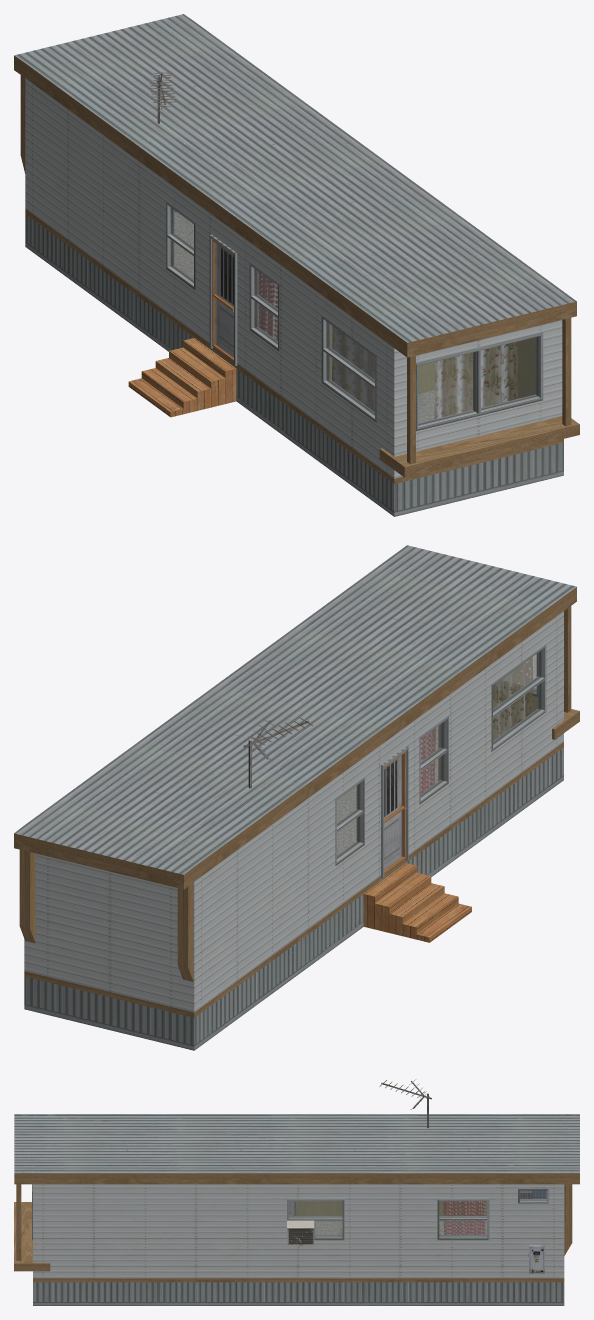
Rendered from trailer_06.glb.
The picture shows the model from 3 angles, top to bottom: view 1: azimuth 30°, elevation 25°; view 2: azimuth 150°, elevation 25°; view 3: azimuth 270°, elevation 25°; orthographic projection. The views are drawn at different scales.
Visible parts, largest first — view 1: Home_03, Mesh_24, ladders_01, Curtain_01.012, Frame_Windows_24, Mesh_23, Door_Mesh.005, Curtain_01.011, Frame_Windows_23, Door.005, Mesh_22, Frame_Windows_22 (+4 smaller); view 2: Home_03, ladders_01, Mesh_23, Door_Mesh.005, Curtain_01.011, Frame_Windows_23, Door.005, Mesh_22, Mesh_21, Frame_Windows_22, Frame_Windows_21, Frame_Door_06 (+2 smaller); view 3: Home_03, Mesh_26, Mesh_25, Curtain.012, Frame_Windows_26, Frame_Windows_25, air-conditioning.005, Fuse_box.007, Antenna_01.002, Frame_Windows_27.
Part boxes in pixels (x1=…): Home_03: x1=14, y1=14, x2=579, y2=516; Mesh_24: x1=418, y1=337, x2=537, y2=425; ladders_01: x1=128, y1=338, x2=236, y2=417; Curtain_01.012: x1=434, y1=342, x2=518, y2=418; Frame_Windows_24: x1=416, y1=332, x2=543, y2=431; Mesh_23: x1=326, y1=322, x2=374, y2=415; Door_Mesh.005: x1=212, y1=240, x2=233, y2=361; Curtain_01.011: x1=332, y1=326, x2=374, y2=411; Frame_Windows_23: x1=321, y1=315, x2=376, y2=422; Door.005: x1=216, y1=244, x2=233, y2=357; Mesh_22: x1=254, y1=269, x2=277, y2=344; Frame_Windows_22: x1=249, y1=262, x2=279, y2=351; Home_03: x1=14, y1=545, x2=579, y2=1050; ladders_01: x1=363, y1=863, x2=471, y2=942; Mesh_23: x1=493, y1=651, x2=541, y2=744; Door_Mesh.005: x1=384, y1=751, x2=406, y2=873; Curtain_01.011: x1=493, y1=657, x2=533, y2=740; Frame_Windows_23: x1=491, y1=644, x2=546, y2=751; Door.005: x1=384, y1=755, x2=401, y2=869; Mesh_22: x1=421, y1=722, x2=444, y2=797; Mesh_21: x1=337, y1=784, x2=359, y2=858; Frame_Windows_22: x1=419, y1=715, x2=448, y2=804; Frame_Windows_21: x1=335, y1=777, x2=364, y2=865; Frame_Door_06: x1=381, y1=746, x2=408, y2=878; Home_03: x1=14, y1=1114, x2=579, y2=1305; Mesh_26: x1=439, y1=1201, x2=486, y2=1236; Mesh_25: x1=289, y1=1201, x2=342, y2=1236; Curtain.012: x1=443, y1=1201, x2=485, y2=1234; Frame_Windows_26: x1=437, y1=1198, x2=489, y2=1240; Frame_Windows_25: x1=287, y1=1198, x2=344, y2=1240; air-conditioning.005: x1=287, y1=1220, x2=314, y2=1245; Fuse_box.007: x1=528, y1=1244, x2=544, y2=1273; Antenna_01.002: x1=379, y1=1079, x2=431, y2=1127; Frame_Windows_27: x1=518, y1=1188, x2=548, y2=1203.
Bounding box in the file's own units: 5.68 × 5.16 × 15.03.
16 materials, 16 textured.
